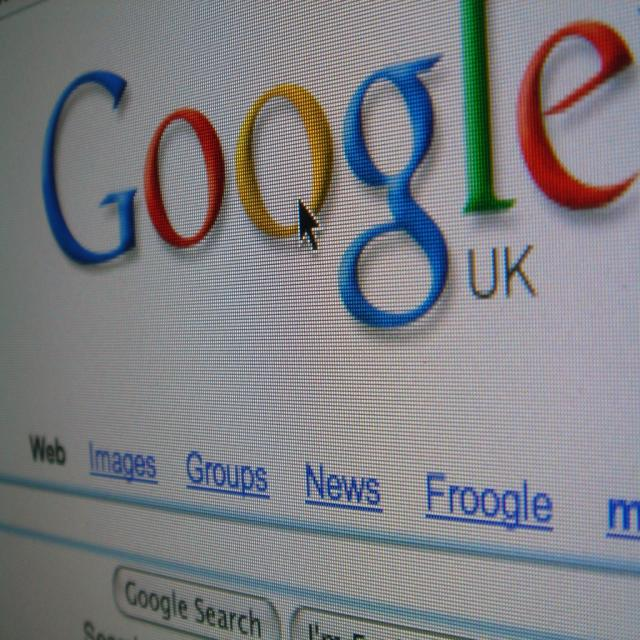google: (35, 2, 640, 347)
